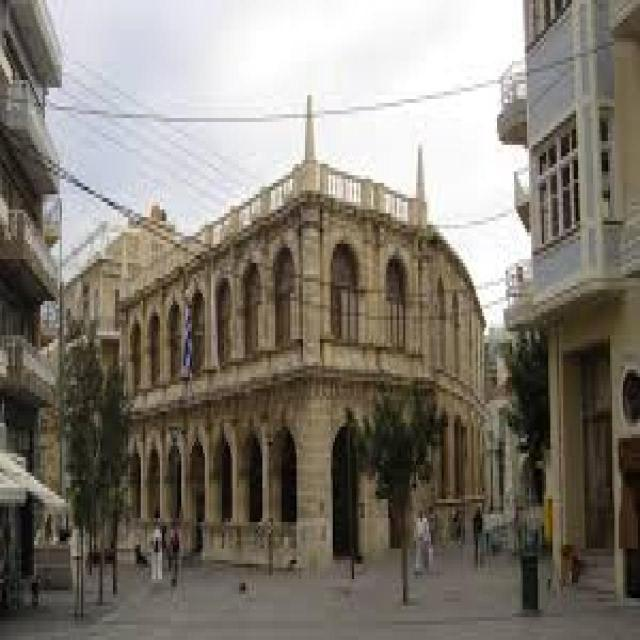Loggia: (123, 93, 487, 572)
